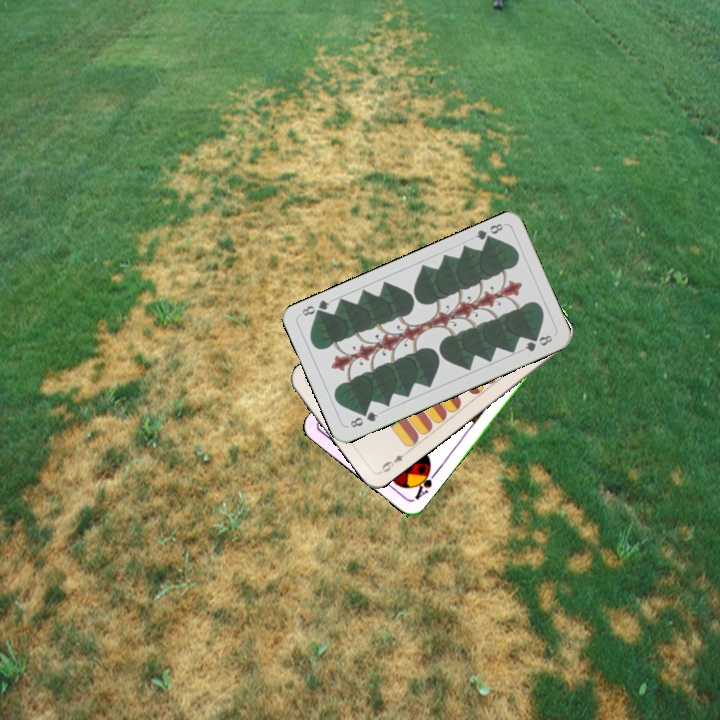E9: (376, 447, 411, 476)
G8: (471, 219, 506, 246), (346, 407, 381, 430)
SA: (409, 464, 439, 502)
